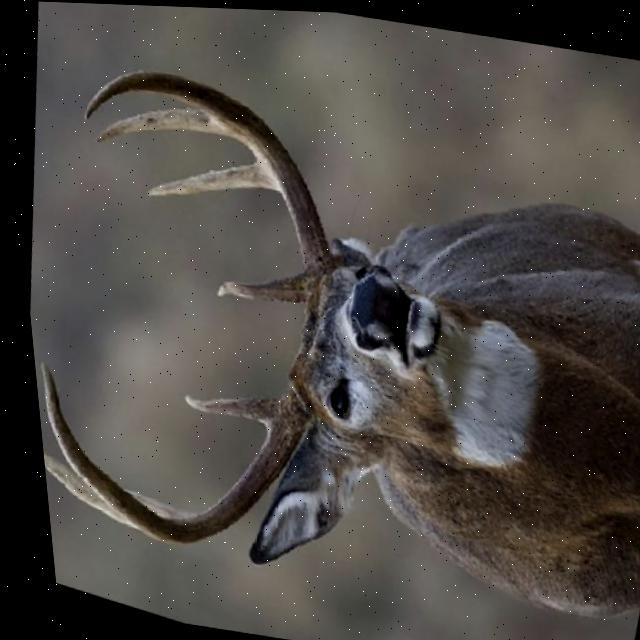L-F: (83, 69, 324, 263)
L-G1: (210, 270, 301, 302)
L-G2: (142, 161, 273, 194)
L-G3: (92, 106, 230, 141)
R-F: (31, 361, 305, 542)
R-G1: (174, 392, 270, 428)
